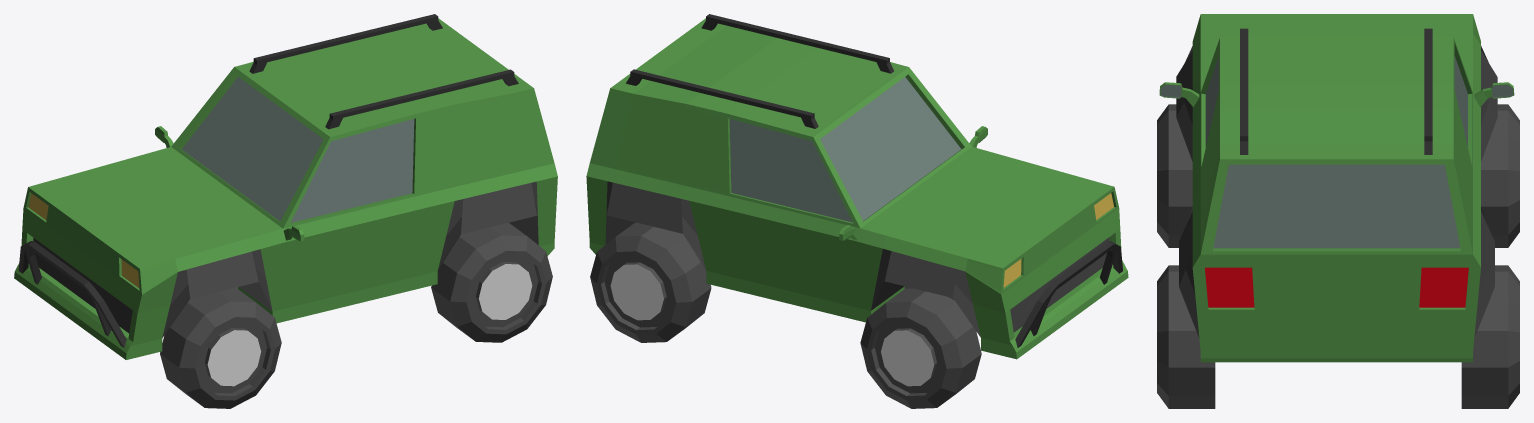
Rendered from offroadcar.glb.
3 views of the same model, side by side, from view 1: azimuth 30°, elevation 25°; view 2: azimuth 150°, elevation 25°; view 3: azimuth 270°, elevation 25° (orthographic). The views are drawn at different scales.
Visible parts, largest first — view 1: body, wheelfl, wheelbl, Cube004, roofrackl, roofrackr; view 2: body, wheelfr, wheelbr, Cube004, roofrackr, roofrackl; view 3: body, wheelbr, wheelbl, wheelfr, wheelfl, roofrackr, roofrackl.
Boxes of the visible parts, <box> form: body: <box>14,18,557,359</box>; wheelfl: <box>160,288,281,408</box>; wheelbl: <box>431,222,552,342</box>; Cube004: <box>18,241,126,347</box>; roofrackl: <box>325,69,518,129</box>; roofrackr: <box>249,14,442,73</box>; body: <box>586,18,1128,359</box>; wheelfr: <box>860,288,981,408</box>; wheelbr: <box>590,222,711,342</box>; Cube004: <box>1015,241,1122,347</box>; roofrackr: <box>626,69,818,128</box>; roofrackl: <box>701,14,893,73</box>; body: <box>1159,14,1514,362</box>; wheelbr: <box>1461,265,1519,408</box>; wheelbl: <box>1157,265,1215,408</box>; wheelfr: <box>1481,104,1519,247</box>; wheelfl: <box>1157,104,1192,247</box>; roofrackr: <box>1424,28,1432,154</box>; roofrackl: <box>1240,28,1248,154</box>.
Size of the model in its own units: 512 by 264 by 299.
